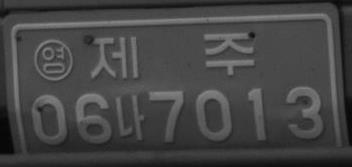0: (194, 87, 233, 141), (30, 92, 67, 146)
1: (239, 88, 278, 141)
3: (284, 85, 325, 140)
6: (73, 92, 112, 145)
7: (147, 88, 185, 141)
나: (112, 93, 146, 141)
영: (32, 38, 75, 82)
제주_D: (87, 30, 256, 77)
